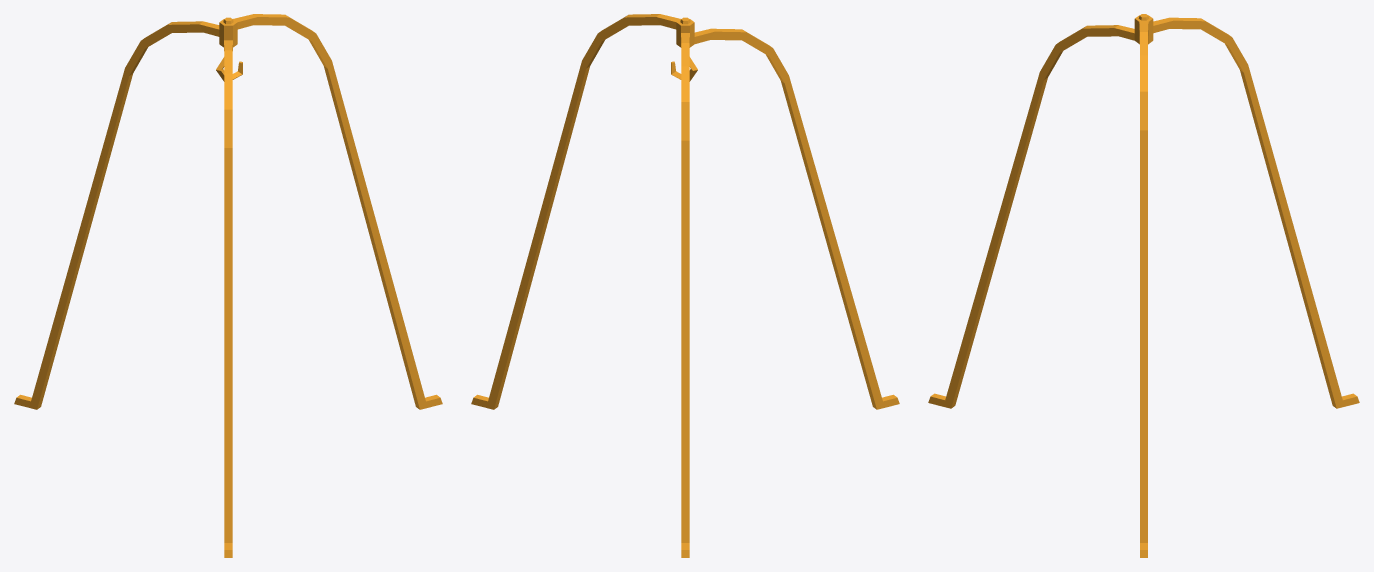
Rendered from SM_Kitchen_Rack_Iron_Fantasy.fbx.
The picture shows the model from 3 angles, left to right: view 1: azimuth 30°, elevation 25°; view 2: azimuth 150°, elevation 25°; view 3: azimuth 270°, elevation 25°; orthographic projection.
Visible parts, largest first — view 1: kitchen-rack-iron-fantasy; view 2: kitchen-rack-iron-fantasy; view 3: kitchen-rack-iron-fantasy.
Boxes of the visible parts, x1,y1,x2,y2 form: kitchen-rack-iron-fantasy: [14, 14, 442, 557]; kitchen-rack-iron-fantasy: [471, 14, 899, 557]; kitchen-rack-iron-fantasy: [928, 14, 1359, 557].
Size of the model in its own units: 0.8223 by 1.06 by 0.9495.
